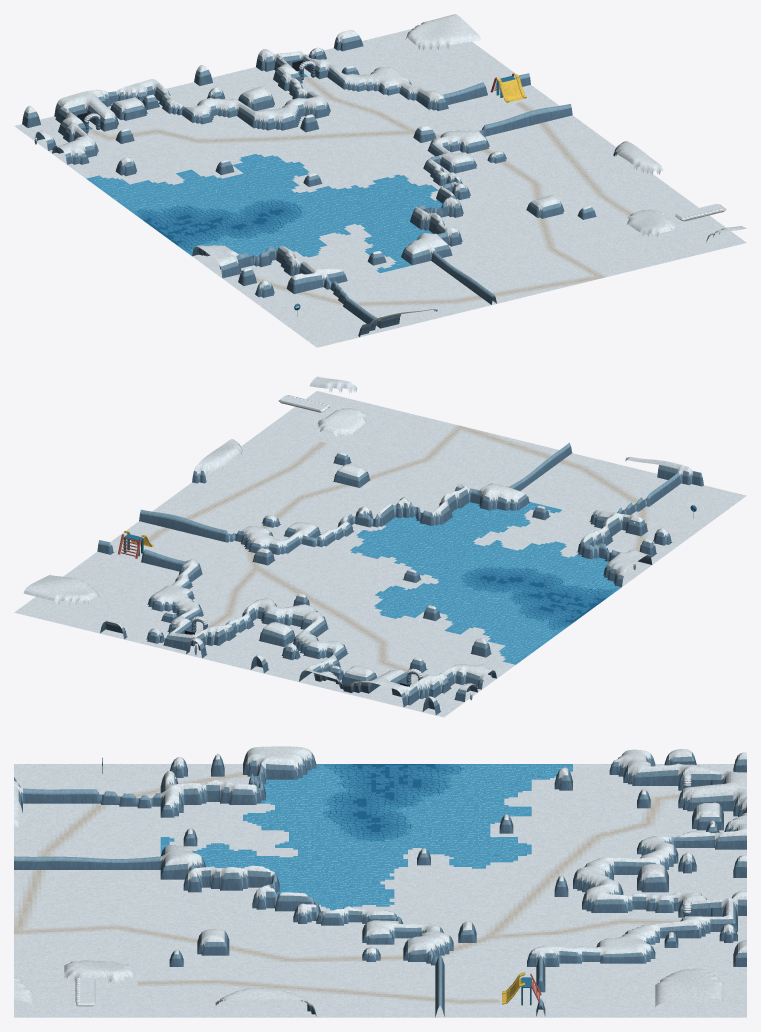
Rendered from terrain-props.glb.
The picture shows the model from 3 angles, top to bottom: view 1: azimuth 30°, elevation 25°; view 2: azimuth 150°, elevation 25°; view 3: azimuth 270°, elevation 25°; orthographic projection. The views are drawn at different scales.
Visible parts, largest first — view 1: hm13-snow-chunk-4-3, hm13-snow-chunk-4-0, hm13-snow-chunk-4-4, hm13-snow-chunk-3-4, hm13-snow-chunk-1-4, hm13-snow-chunk-2-1, hm13-snow-chunk-3-3, hm13-ice-chunk-1-2, hm13-snow-chunk-3-1, hm13-snow-chunk-2-4, hm13-snow-chunk-1-0, hm13-snow-chunk-4-2 (+34 smaller); view 2: hm13-snow-chunk-4-4, hm13-snow-chunk-4-3, hm13-snow-chunk-4-0, hm13-snow-chunk-1-4, hm13-snow-chunk-3-4, hm13-snow-chunk-3-1, hm13-ice-chunk-0-2, hm13-ice-chunk-1-2, hm13-snow-chunk-3-3, hm13-snow-chunk-2-4, hm13-snow-chunk-0-4, hm13-snow-chunk-2-0 (+32 smaller); view 3: hm13-snow-chunk-4-4, hm13-snow-chunk-4-3, hm13-snow-chunk-4-0, hm13-snow-chunk-3-4, hm13-snow-chunk-4-2, hm13-snow-chunk-3-3, hm13-snow-chunk-2-1, hm13-ice-chunk-1-2, hm13-snow-chunk-4-1, hm13-ice-chunk-0-2, hm13-snow-chunk-2-4, hm13-snow-chunk-1-4 (+35 smaller).
Part boxes in pixels (left/top/right/bottom): hm13-snow-chunk-4-3: left=540, top=141, right=685, bottom=219; hm13-snow-chunk-4-0: left=362, top=14, right=503, bottom=86; hm13-snow-chunk-4-4: left=600, top=198, right=746, bottom=263; hm13-snow-chunk-3-4: left=514, top=219, right=660, bottom=284; hm13-snow-chunk-1-4: left=342, top=261, right=488, bottom=326; hm13-snow-chunk-2-1: left=247, top=97, right=392, bottom=171; hm13-snow-chunk-3-3: left=455, top=175, right=599, bottom=240; hm13-ice-chunk-1-2: left=221, top=173, right=367, bottom=238; hm13-snow-chunk-3-1: left=333, top=81, right=478, bottom=151; hm13-snow-chunk-2-4: left=428, top=240, right=574, bottom=305; hm13-snow-chunk-1-0: left=100, top=79, right=246, bottom=149; hm13-snow-chunk-4-2: left=481, top=115, right=624, bottom=174; hm13-snow-chunk-4-4: left=256, top=376, right=402, bottom=454; hm13-snow-chunk-4-3: left=196, top=435, right=336, bottom=500; hm13-snow-chunk-4-0: left=14, top=568, right=160, bottom=633; hm13-snow-chunk-1-4: left=523, top=454, right=660, bottom=516; hm13-snow-chunk-3-4: left=346, top=412, right=488, bottom=476; hm13-snow-chunk-3-1: left=161, top=545, right=306, bottom=609; hm13-ice-chunk-0-2: left=479, top=563, right=621, bottom=628; hm13-ice-chunk-1-2: left=393, top=542, right=539, bottom=607; hm13-snow-chunk-3-3: left=282, top=452, right=427, bottom=517; hm13-snow-chunk-2-4: left=428, top=433, right=574, bottom=491; hm13-snow-chunk-0-4: left=610, top=460, right=746, bottom=539; hm13-snow-chunk-2-0: left=186, top=600, right=332, bottom=675; hm13-snow-chunk-4-4: left=14, top=960, right=160, bottom=1017; hm13-snow-chunk-4-3: left=160, top=967, right=307, bottom=1017; hm13-snow-chunk-4-0: left=600, top=967, right=746, bottom=1017; hm13-snow-chunk-3-4: left=14, top=916, right=160, bottom=966; hm13-snow-chunk-4-2: left=307, top=967, right=453, bottom=1017; hm13-snow-chunk-3-3: left=160, top=903, right=307, bottom=966; hm13-snow-chunk-2-1: left=453, top=858, right=600, bottom=915; hm13-ice-chunk-1-2: left=305, top=814, right=453, bottom=866; hm13-snow-chunk-4-1: left=453, top=967, right=600, bottom=1017; hm13-ice-chunk-0-2: left=306, top=764, right=455, bottom=814; hm13-snow-chunk-2-4: left=14, top=870, right=160, bottom=915; hm13-snow-chunk-1-4: left=14, top=797, right=160, bottom=858.
Size of the model in its own units: 58.15 by 2.5 by 69.45.
Materials: 4 (4 with a texture image).
